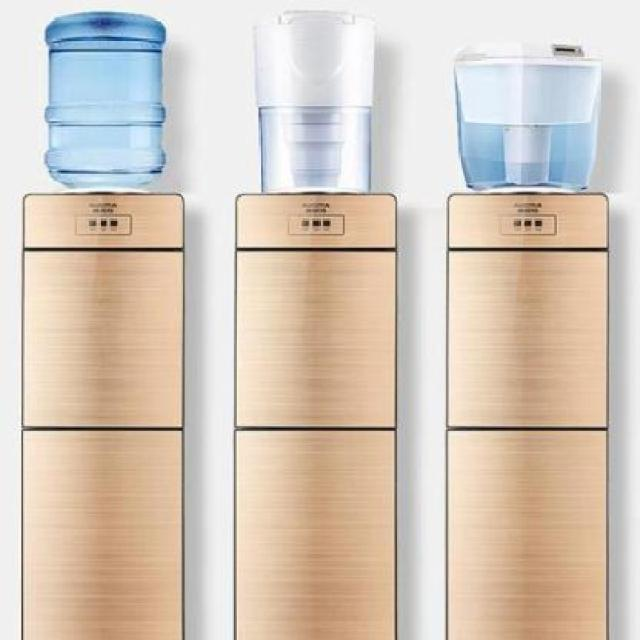cooler: (232, 0, 401, 640), (21, 7, 189, 640), (446, 35, 614, 640)
